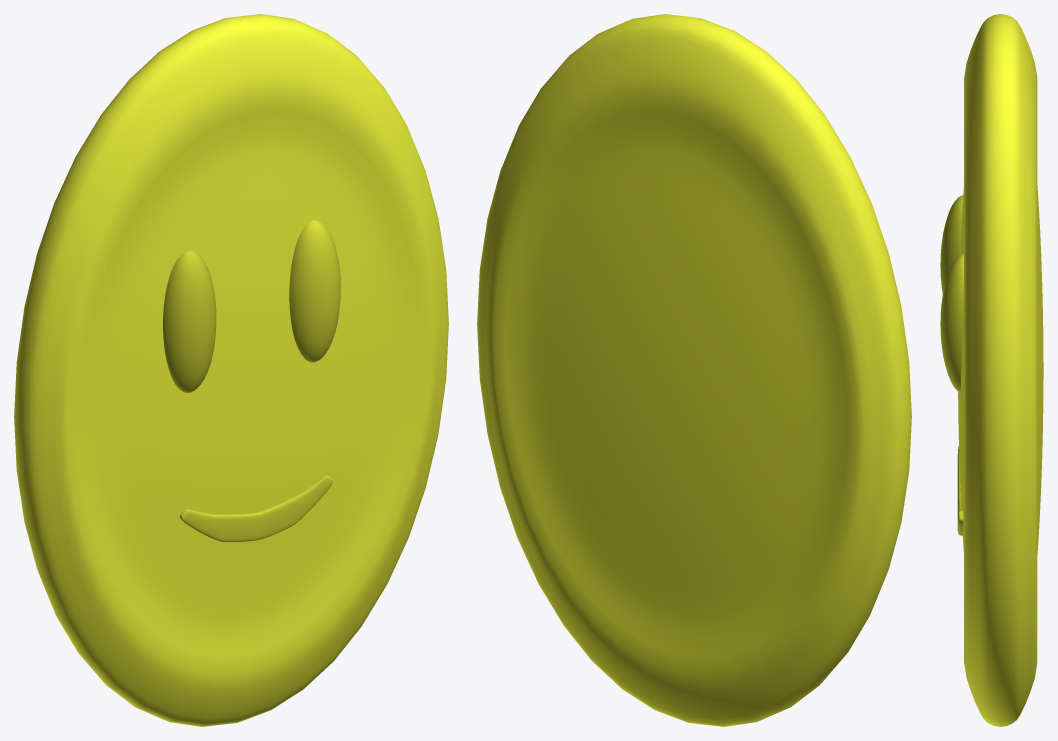
Rendered from Monedafbx.fbx.
3 views of the same model, side by side, from view 1: azimuth 30°, elevation 25°; view 2: azimuth 150°, elevation 25°; view 3: azimuth 270°, elevation 25° (orthographic). The views are drawn at different scales.
Visible parts, largest first — view 1: pSphere6; view 2: pSphere6; view 3: pSphere6.
Boxes of the visible parts, x1=… form: pSphere6: x1=14, y1=14, x2=448, y2=726; pSphere6: x1=477, y1=14, x2=911, y2=726; pSphere6: x1=940, y1=14, x2=1043, y2=726.
Size of the model in its own units: 0.3885 by 0.6116 by 0.0836.
